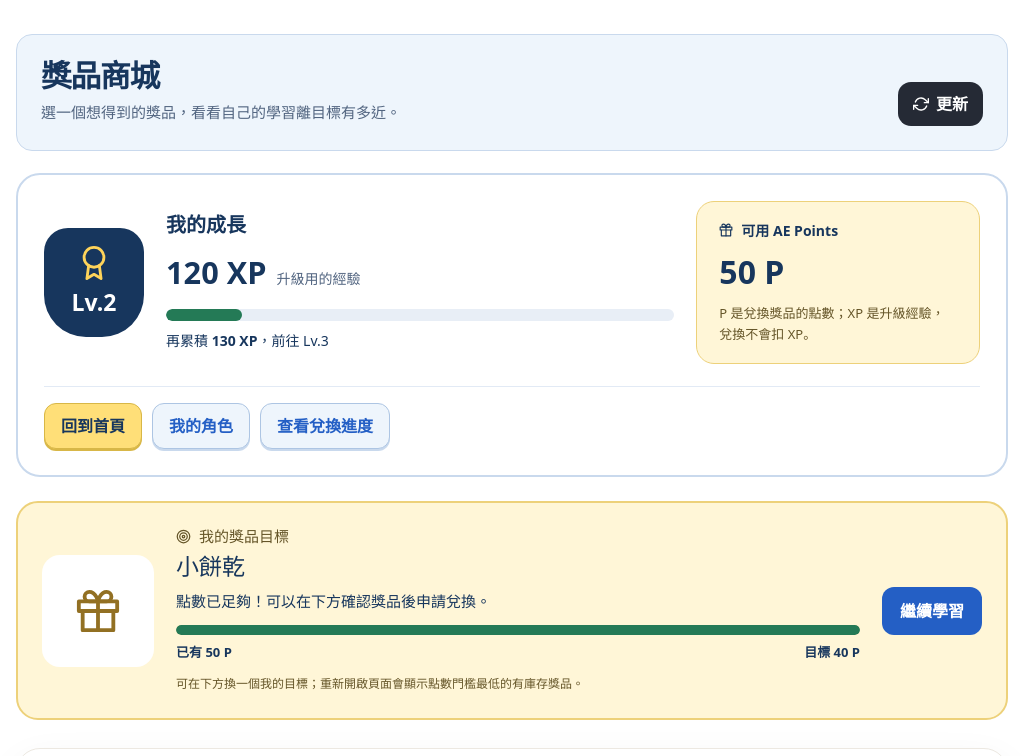
Test: 重新讀取失敗時停止兌換舊資料，重試成功後恢復可操作狀態
This screenshot has width=1024, height=756.
Click the button "更新" at (940, 104), box [898,82,983,126]
(page scrolled)
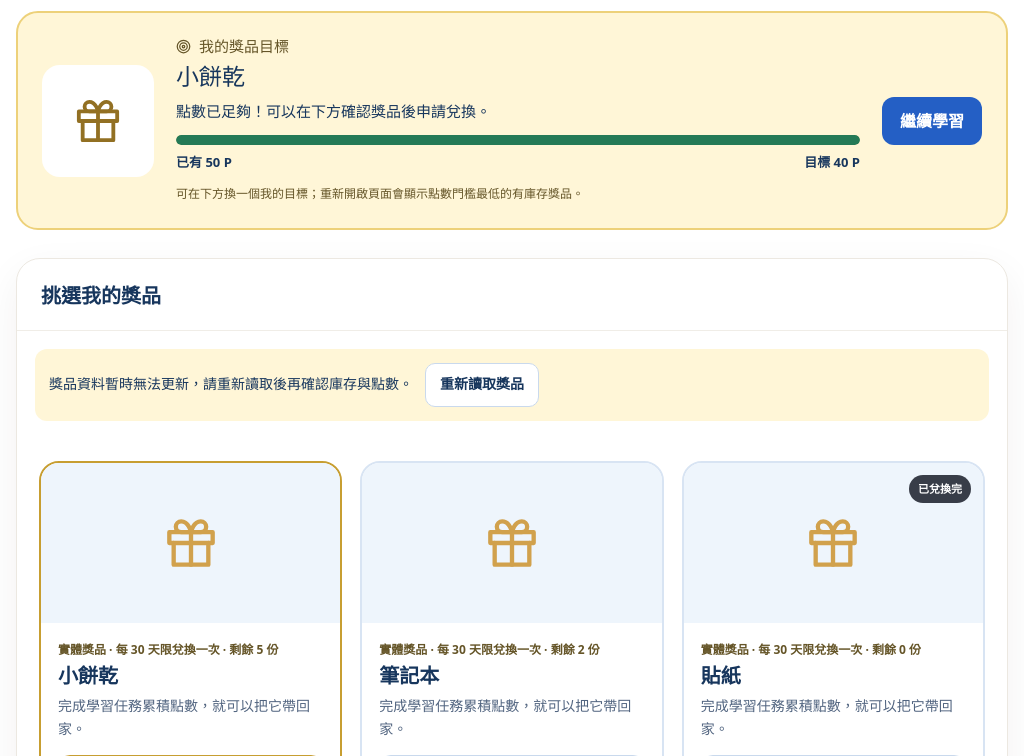
Expected: the button "重新讀取獎品" is shown
Click the button "重新讀取獎品" at (482, 385), box [425,363,539,407]
(page scrolled)
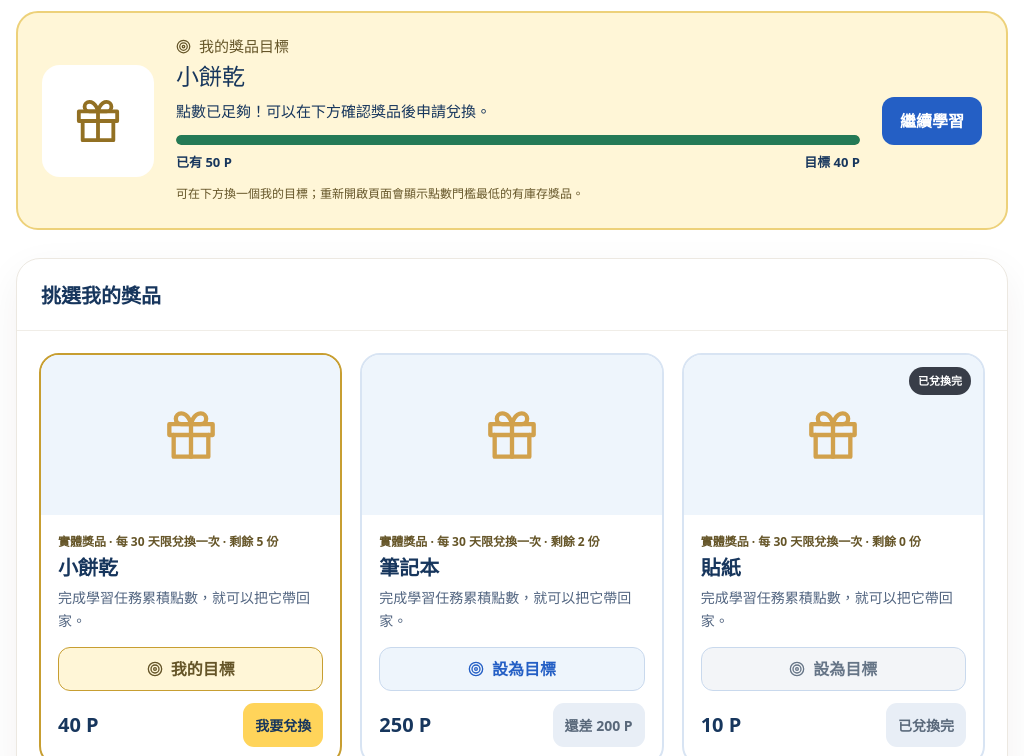
Expected: the button "我要兌換" is enabled, [243,703,323,747]
